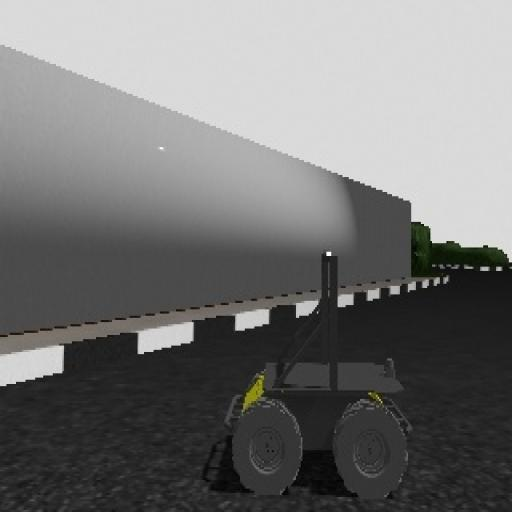huskya200: (202, 240, 427, 512)
